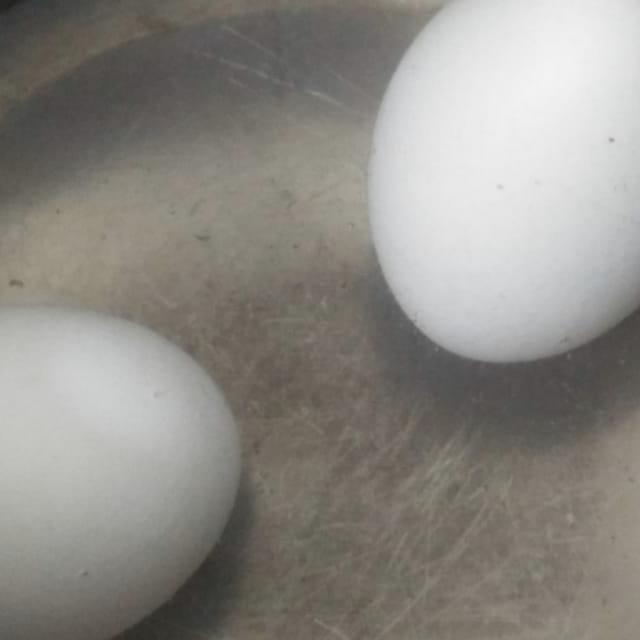egg: (363, 0, 640, 367), (0, 323, 252, 640)
